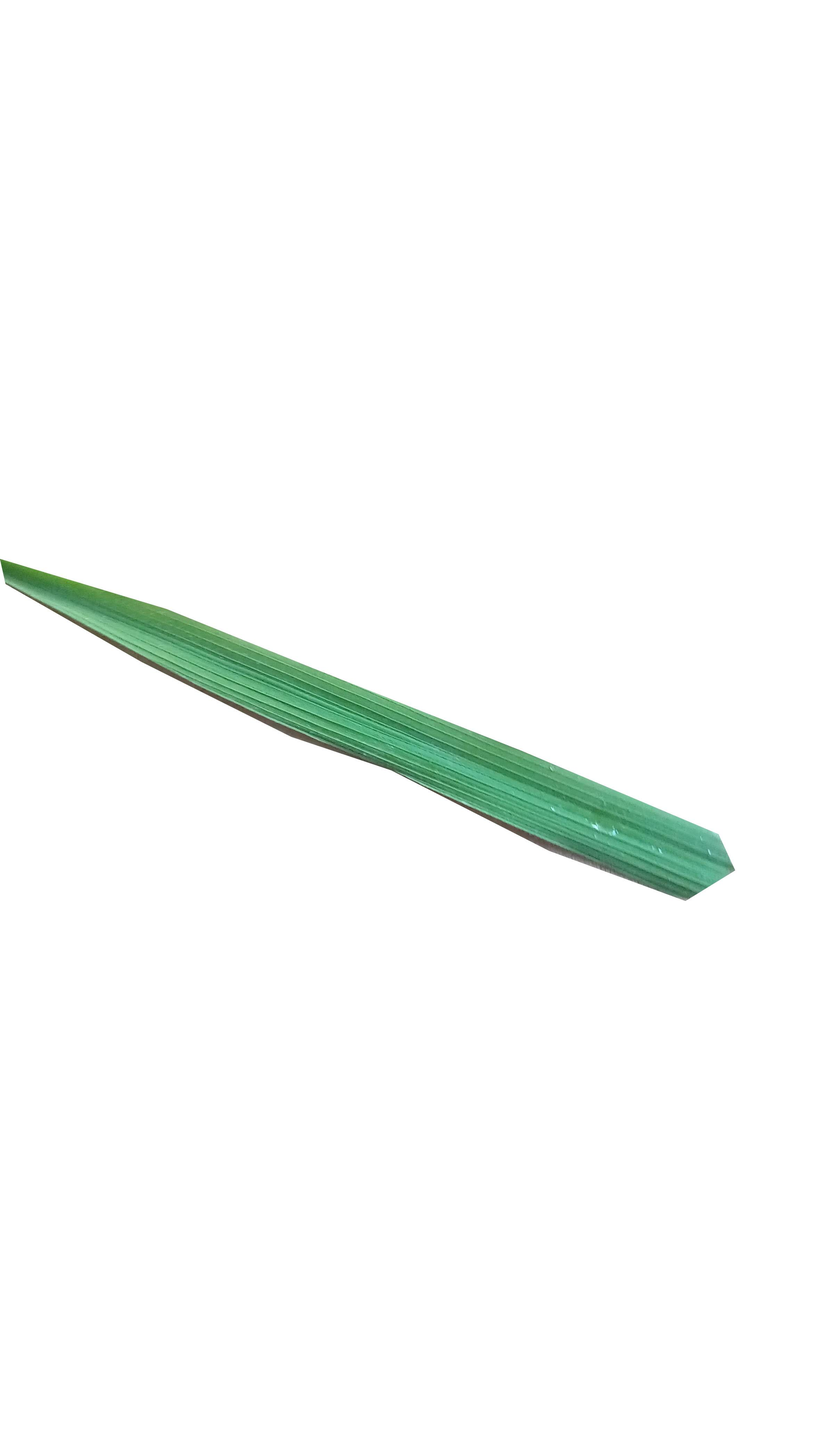Healthy: (0, 562, 735, 905)
